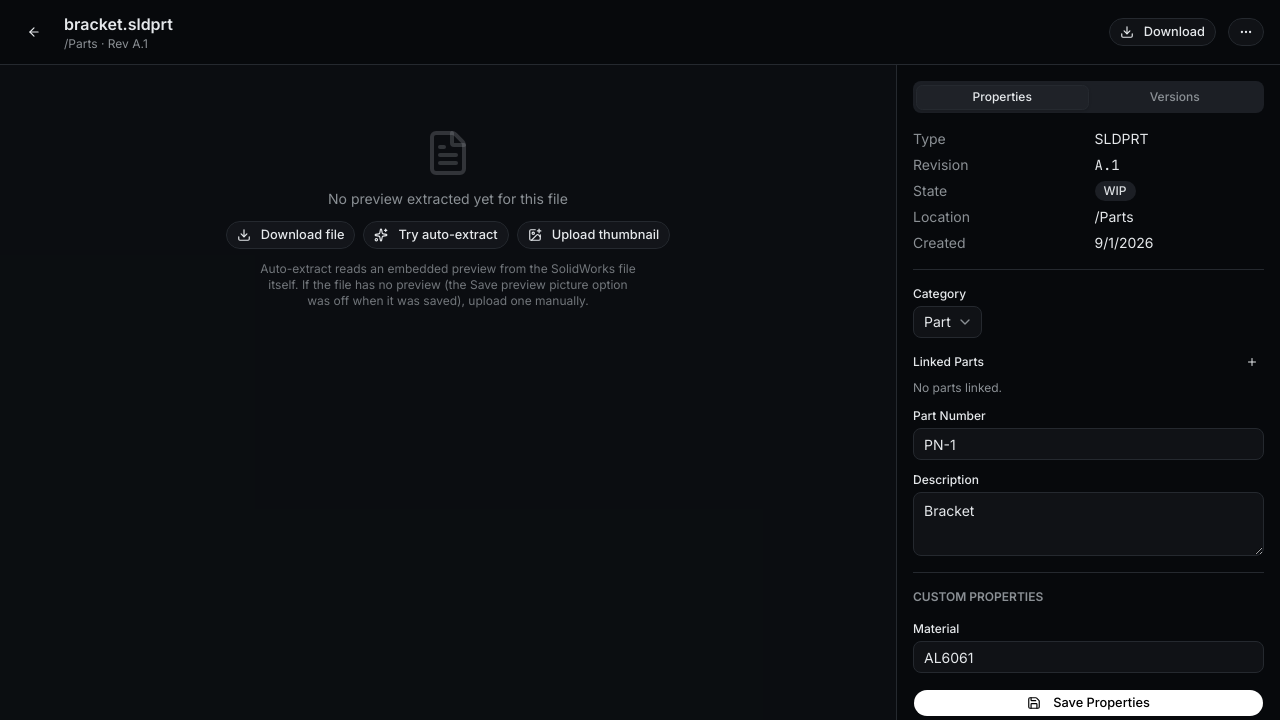
FileDetailPanel — a refresh does not wipe unsaved property edits › keeps an in-progress custom property the same way
Expected: the field labelled "Part Number" holds "PN-1", [913, 428, 1264, 460]
Replace the text in the field labelled "Material" with "SS304". click: {"x": 1088, "y": 657}
box: [913, 641, 1264, 673]
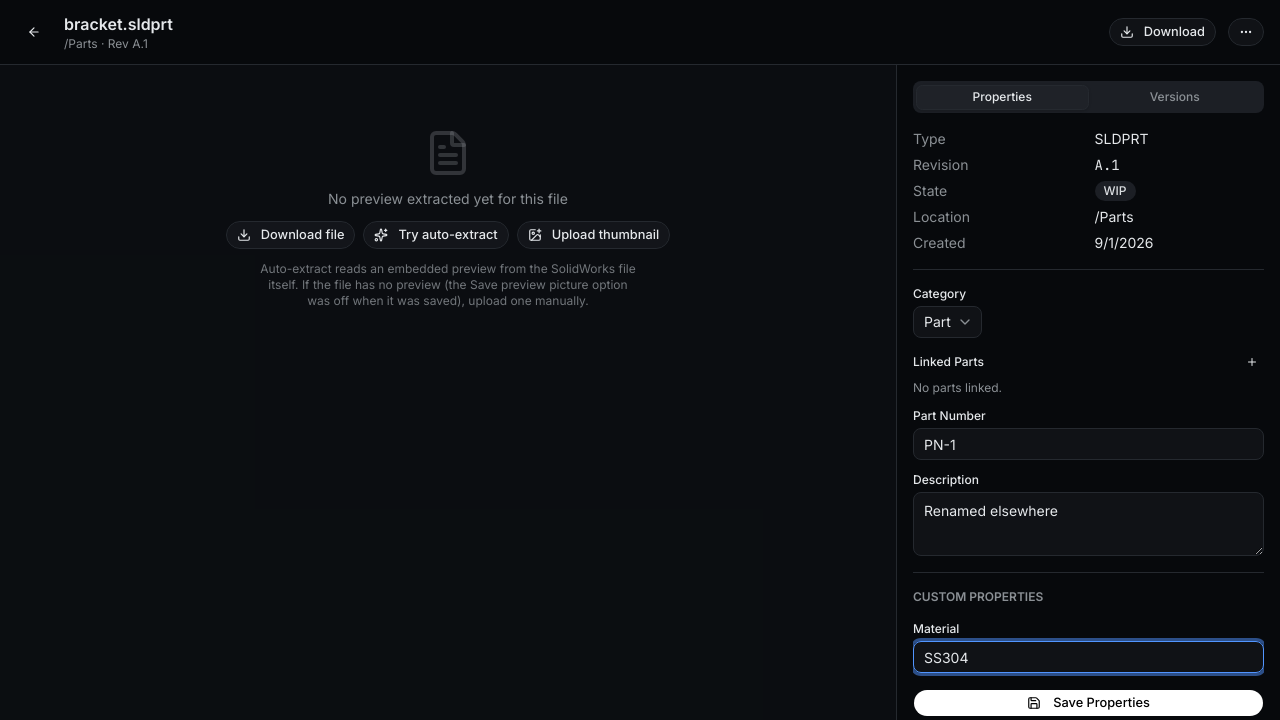
Now the text box labelled "Description" holds "Renamed elsewhere", box [913, 492, 1264, 556]
